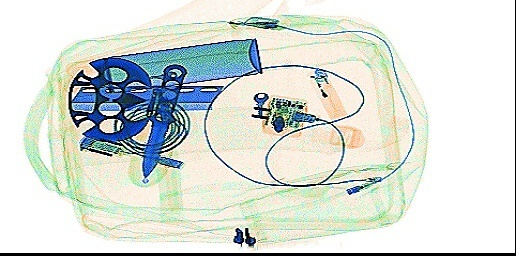knife: (140, 61, 188, 182)
lighter: (303, 65, 347, 122)
pressure: (64, 36, 263, 95)
